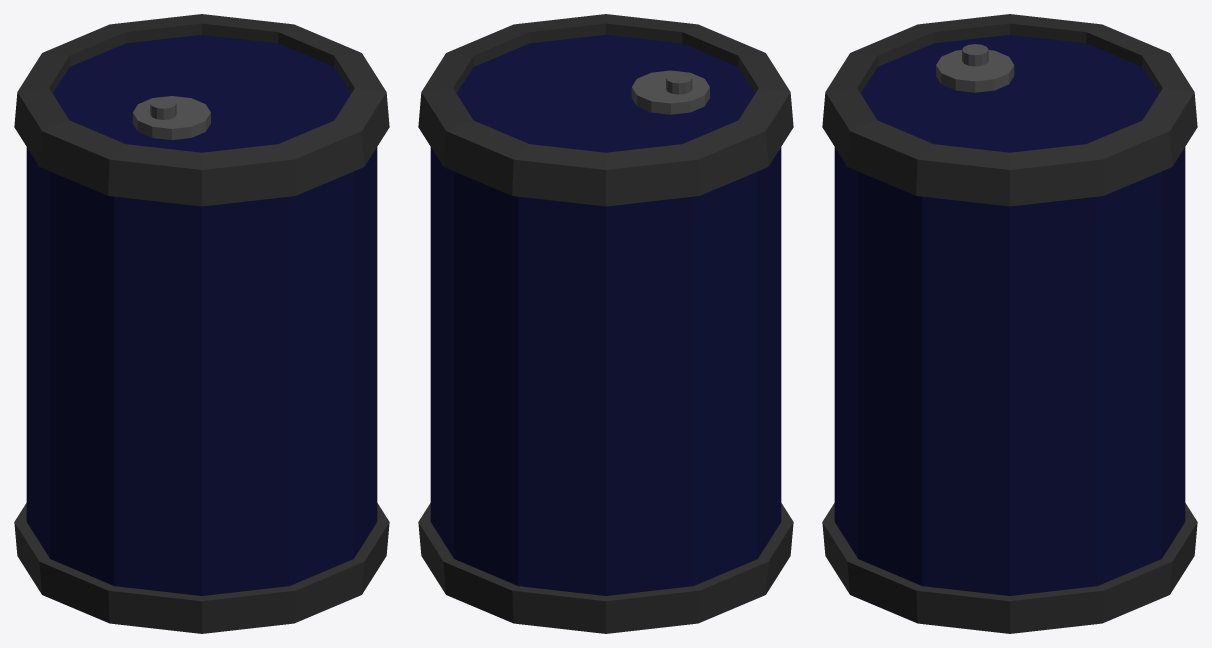
Rendered from industrialBarrel_01.FBX.
The picture shows the model from 3 angles, left to right: view 1: azimuth 30°, elevation 25°; view 2: azimuth 150°, elevation 25°; view 3: azimuth 270°, elevation 25°; orthographic projection.
Visible parts, largest first — view 1: INdustrial Barrel; view 2: INdustrial Barrel; view 3: INdustrial Barrel.
Part boxes in pixels (x1,y1,x2,y2): INdustrial Barrel: [14, 14, 389, 633]; INdustrial Barrel: [418, 14, 793, 633]; INdustrial Barrel: [822, 14, 1197, 633].
Bounding box in the file's own units: 30.28 × 42.65 × 30.28.
